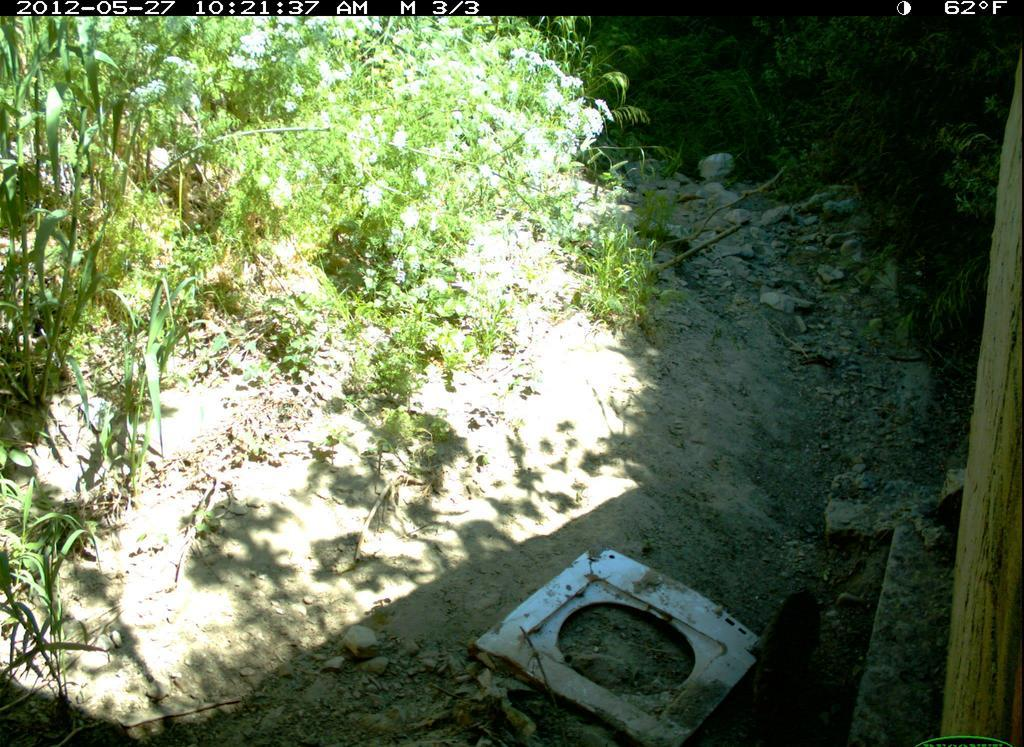cat: (740, 579, 834, 745)
